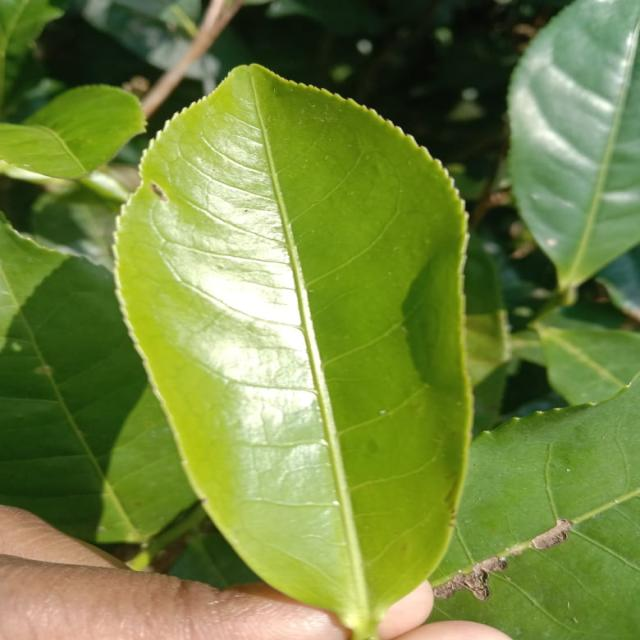Category B 2-4 days: (103, 45, 484, 624)
